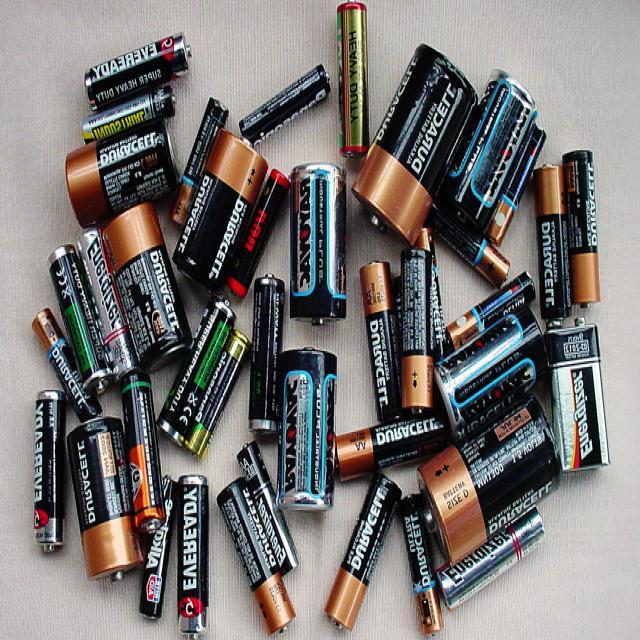battery: (352, 41, 476, 247), (418, 387, 558, 564), (99, 202, 192, 376), (172, 130, 266, 297), (433, 306, 546, 444), (444, 68, 536, 235), (64, 417, 144, 587), (322, 466, 400, 634), (434, 502, 546, 616), (218, 476, 296, 638), (62, 119, 176, 226), (272, 344, 337, 514), (44, 242, 112, 398), (545, 319, 607, 474), (328, 406, 446, 486), (291, 161, 346, 328), (84, 24, 191, 106), (239, 57, 333, 145), (442, 268, 536, 354), (120, 370, 164, 540), (358, 258, 401, 422), (398, 244, 438, 418), (80, 72, 177, 143), (29, 382, 66, 557), (562, 146, 601, 312), (248, 273, 284, 443), (534, 163, 572, 321), (180, 474, 210, 640), (338, 0, 369, 160)
